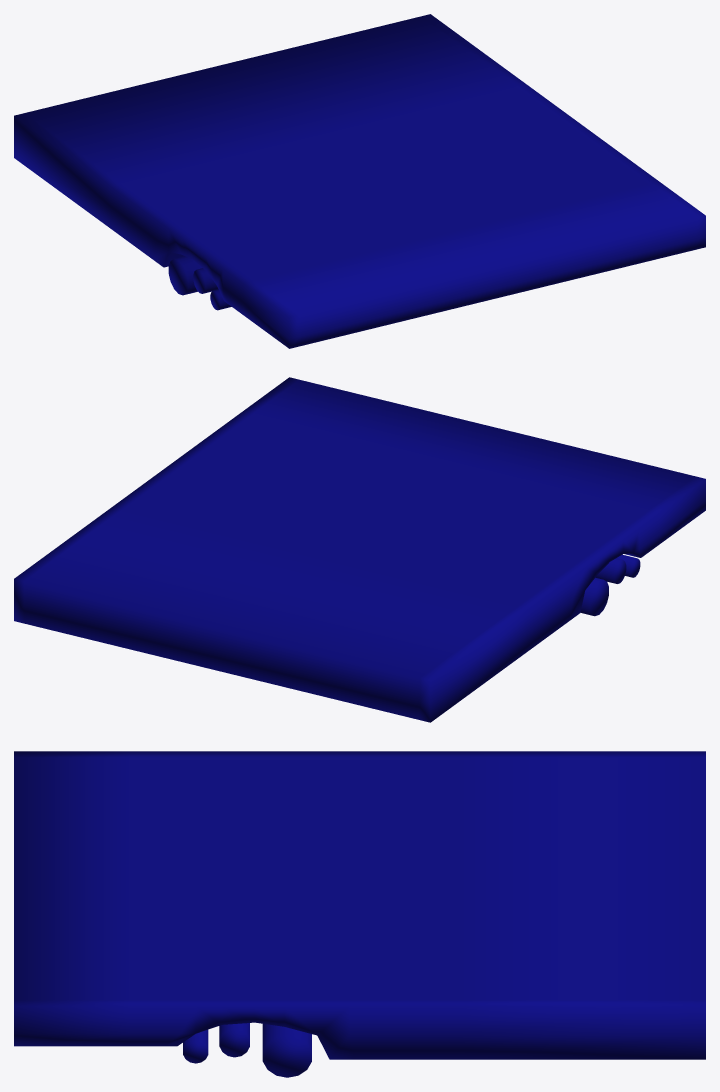
File: Techo.FBX
3 renders of one model, top to bottom at view 1: azimuth 30°, elevation 25°; view 2: azimuth 150°, elevation 25°; view 3: azimuth 270°, elevation 25°, orthographic. The views are drawn at different scales.
Visible parts, largest first — view 1: Techo_LP; view 2: Techo_LP; view 3: Techo_LP.
Boxes of the visible parts, x1,y1,x2,y2 form: Techo_LP: (14, 14, 705, 348); Techo_LP: (14, 377, 705, 722); Techo_LP: (14, 751, 705, 1077).
Size of the model in its own units: 2.49 by 0.3156 by 2.83.
